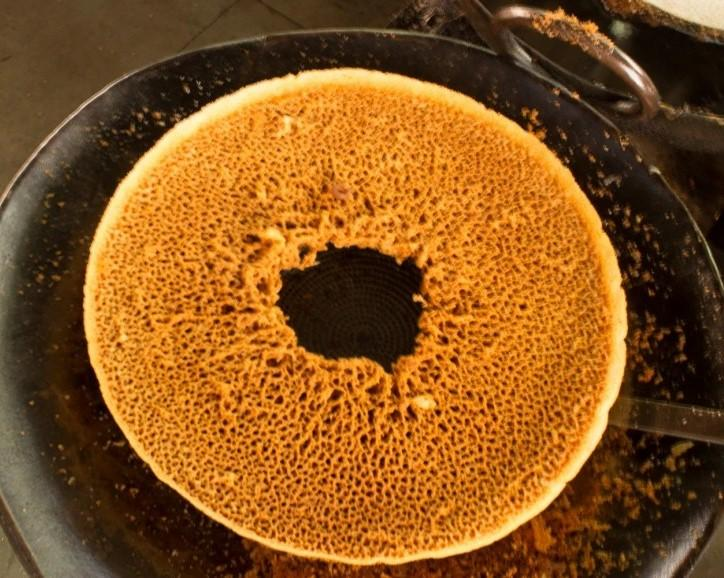Ghevar: (86, 67, 630, 567)
